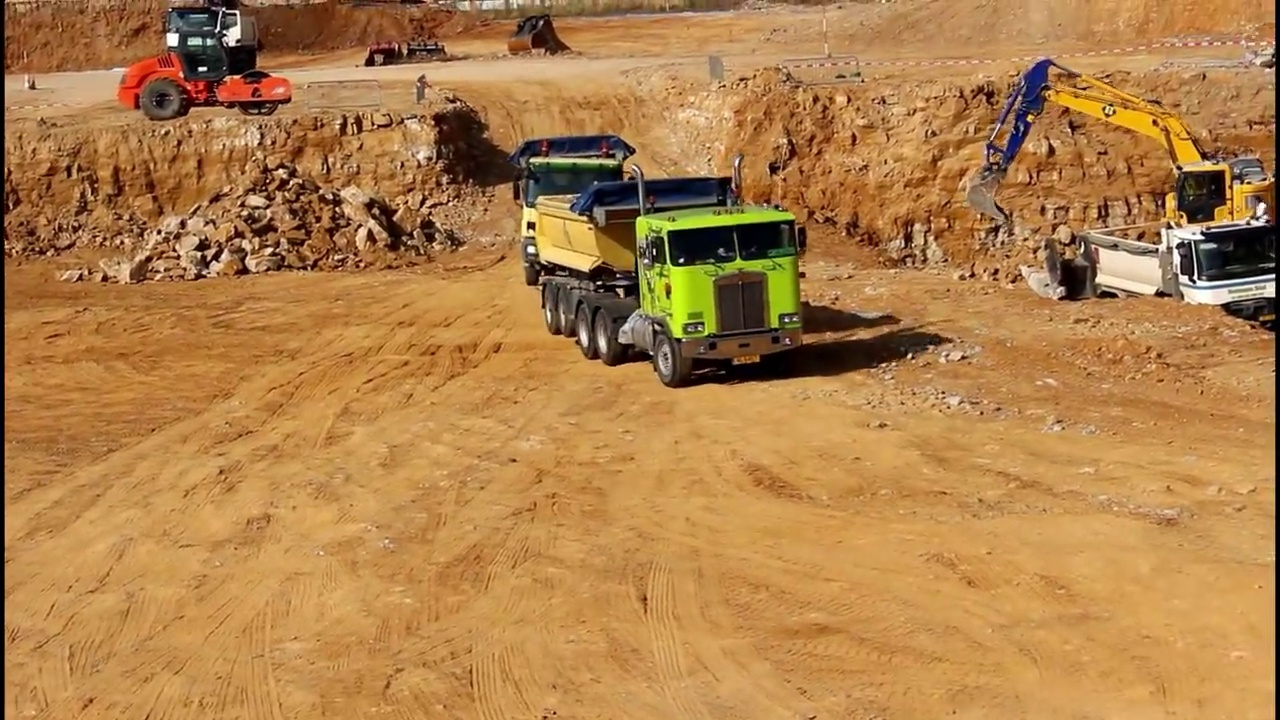compactor: (114, 28, 297, 126)
excavator: (961, 54, 1280, 283)
truck: (533, 157, 821, 390), (1077, 213, 1280, 354), (504, 124, 645, 289), (162, 1, 266, 83)
worker: (1244, 188, 1275, 236)
